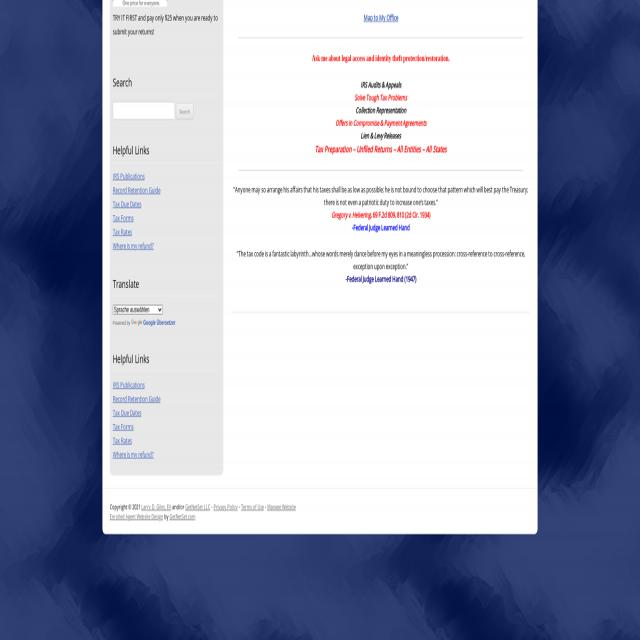button: (176, 105, 193, 122), (131, 318, 143, 325)
field: (113, 104, 175, 122), (113, 305, 163, 315)
